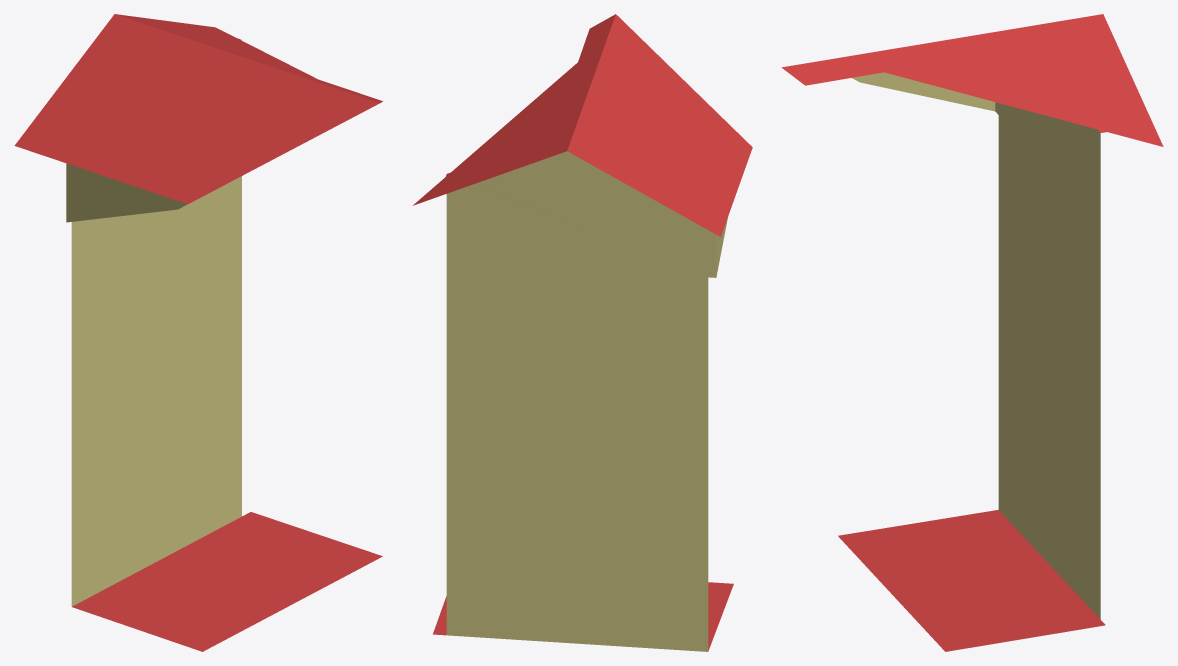
The picture shows the model from 3 angles, left to right: view 1: azimuth 30°, elevation 25°; view 2: azimuth 150°, elevation 25°; view 3: azimuth 270°, elevation 25°; orthographic projection. The views are drawn at different scales.
Size of the model in its own units: 7.07 by 7.16 by 11.21.
